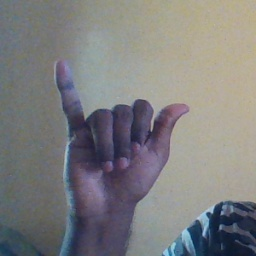J: (52, 63, 193, 211)
